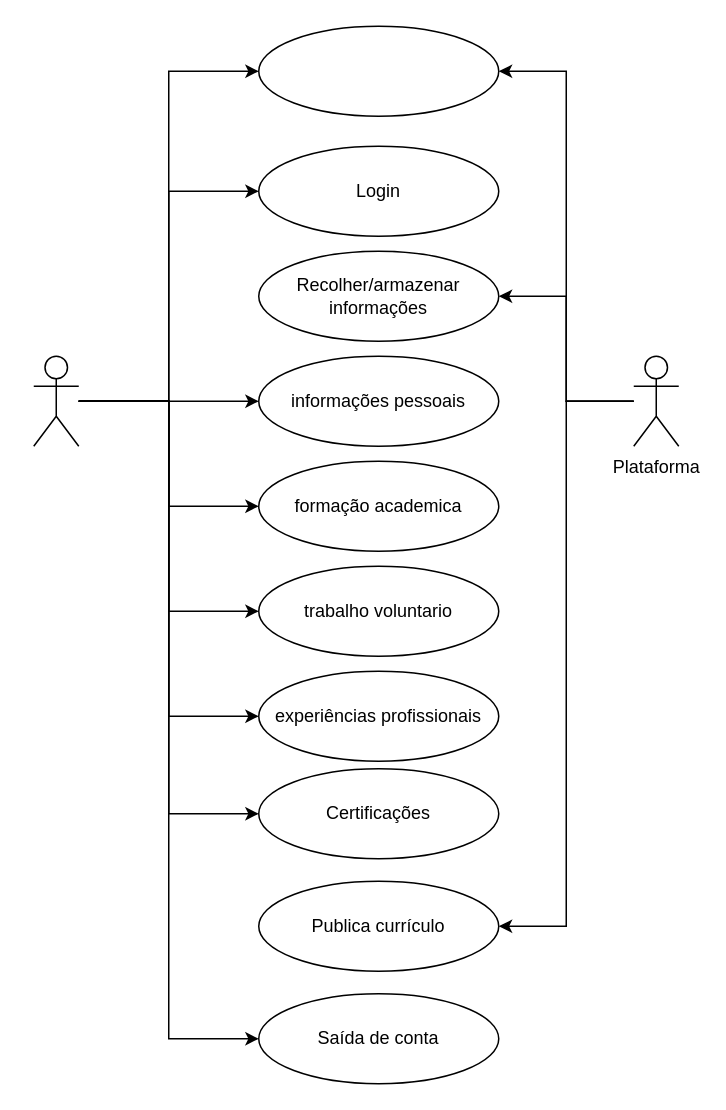
The diagram is 726 pixels wide and 1110 high, and some of its shapes have lost their labels. The shapes that lost their labels are listed below. From the top down, each one's centre as x and y in pixels, then its label:
the point at 378,70: Cadastro
the point at 55,400: Usuário
